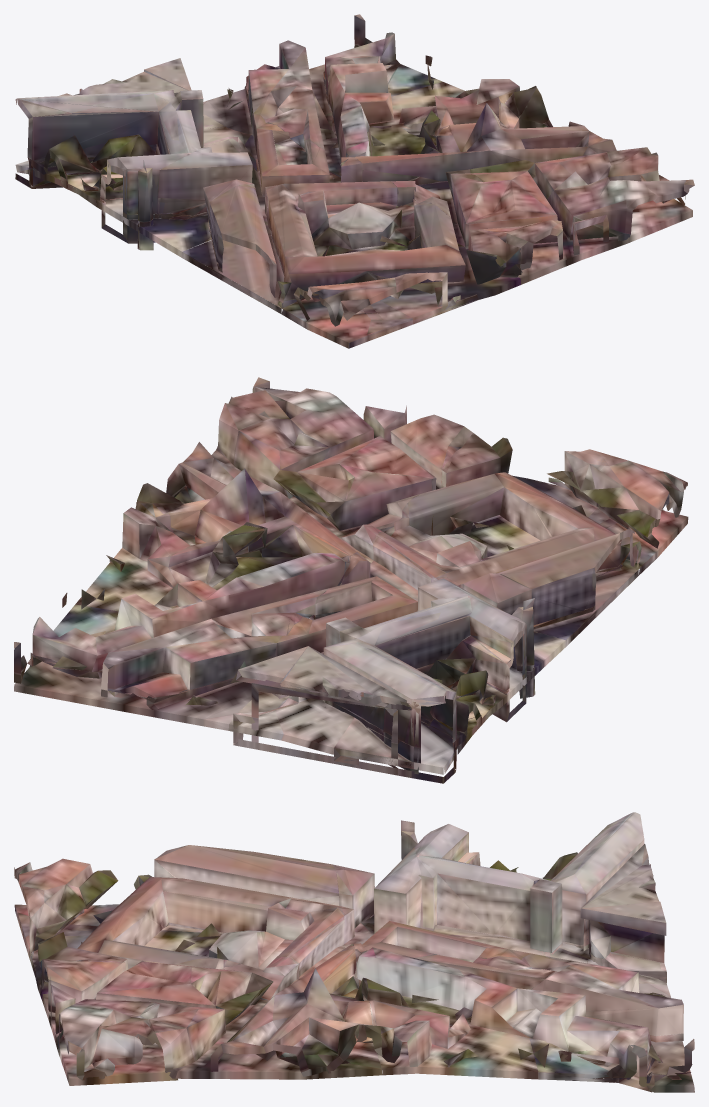
3 views of the same model, one above another, from view 1: azimuth 30°, elevation 25°; view 2: azimuth 150°, elevation 25°; view 3: azimuth 270°, elevation 25° (orthographic). The views are drawn at different scales.
Visible parts, largest first — view 1: Mesh_0; view 2: Mesh_0; view 3: Mesh_0.
Part boxes in pixels (x1=…): Mesh_0: x1=15, y1=14, x2=694, y2=348; Mesh_0: x1=14, y1=377, x2=688, y2=783; Mesh_0: x1=14, y1=812, x2=694, y2=1092.
Size of the model in its own units: 269 by 62.1 by 330.
1 material, 1 textured.
